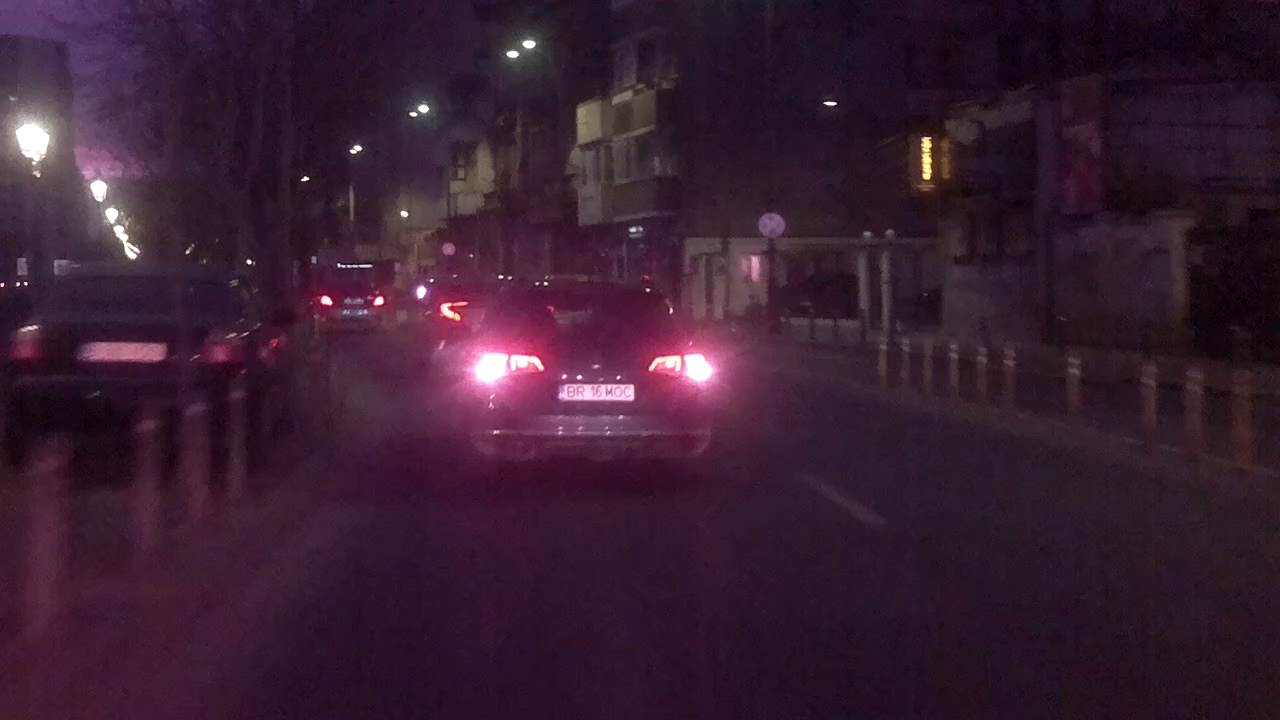license-plate: (555, 381, 636, 403)
